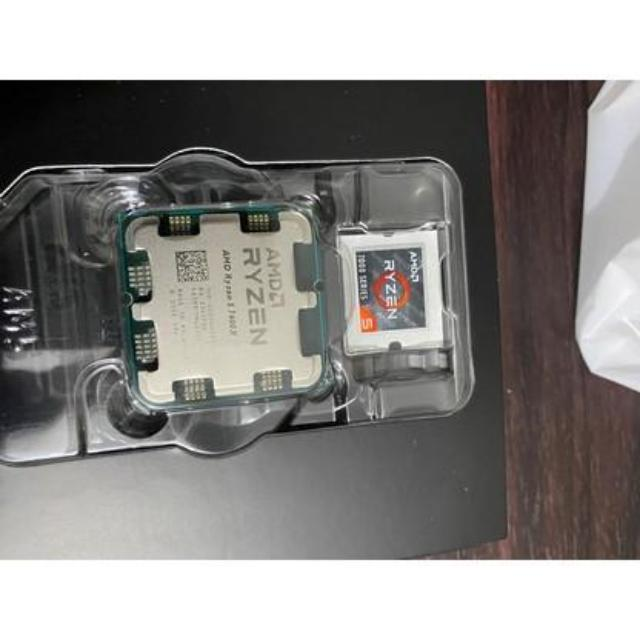CPU: (124, 216, 322, 401)
